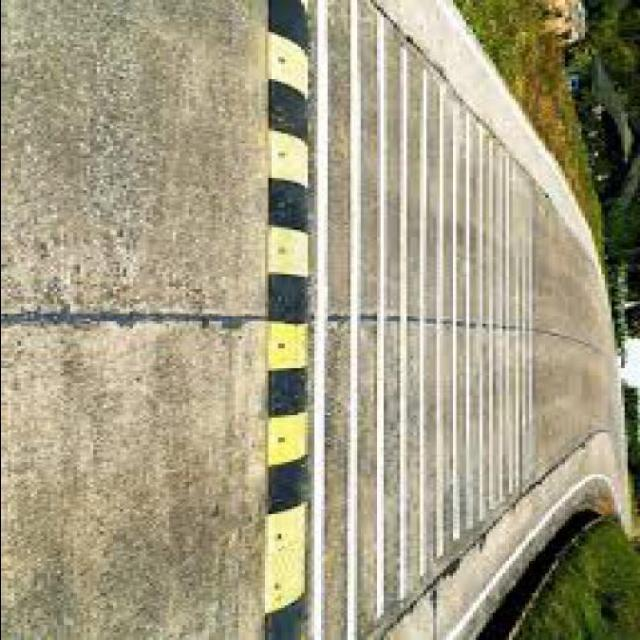Speed_Breaker: (251, 0, 548, 640), (316, 0, 538, 639), (264, 0, 315, 639)
